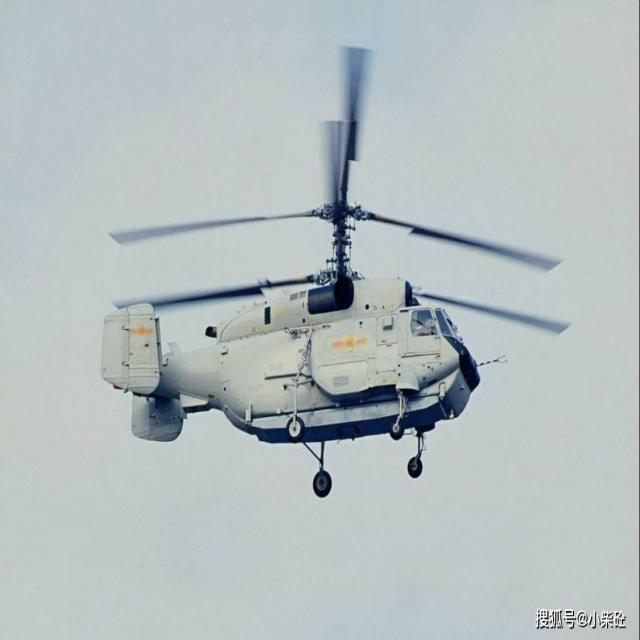MIL_HELO: (98, 39, 640, 506)
